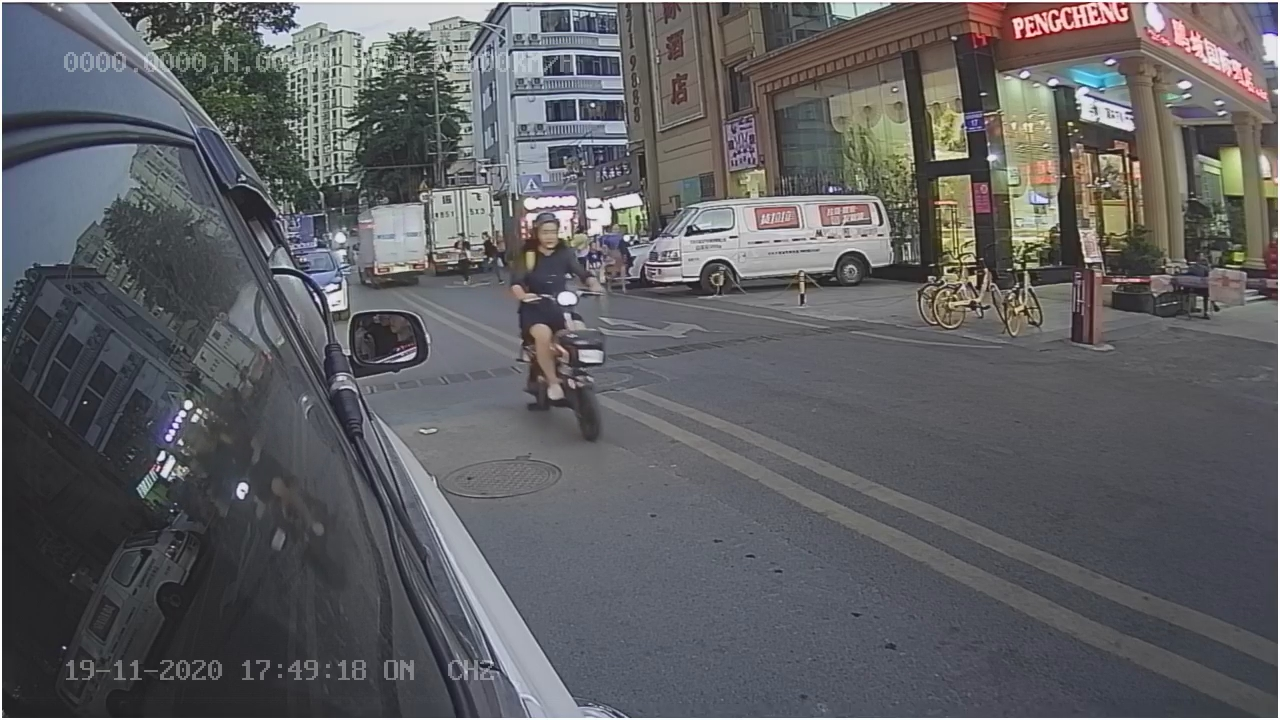person: (499, 209, 582, 302)
